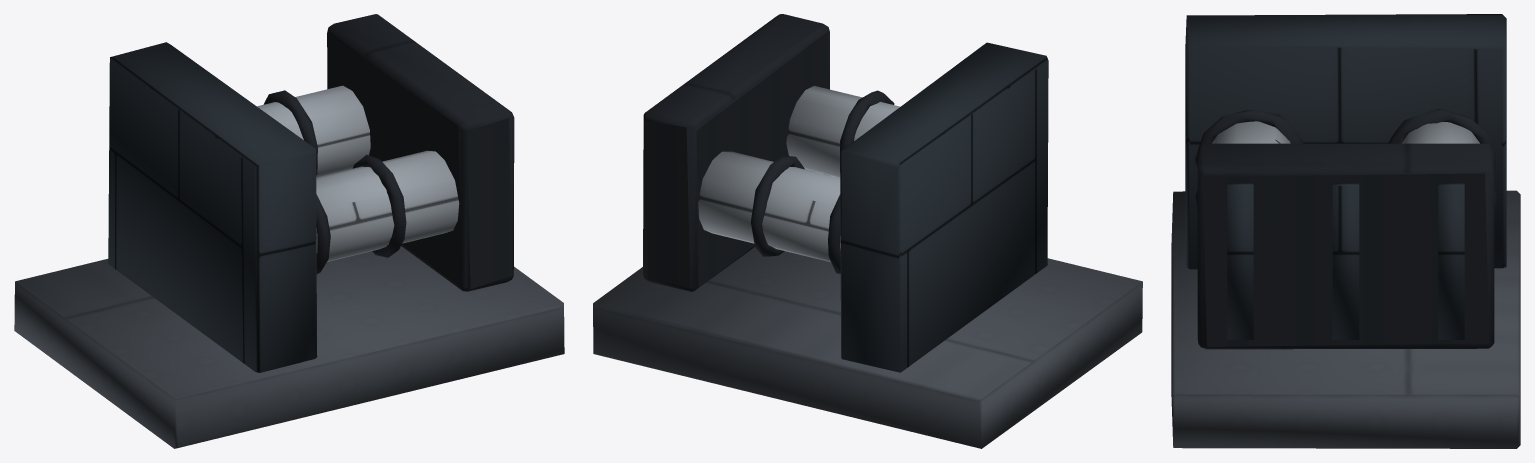
The model's file is ops_ejector_stop_lod2.glb.
3 renders of one model, left to right at view 1: azimuth 30°, elevation 25°; view 2: azimuth 150°, elevation 25°; view 3: azimuth 270°, elevation 25°, orthographic. The views are drawn at different scales.
Parts seen in each view (by area): view 1: LOD2_Mechanical, LOD2_Armor, LOD2_MOTION_COMPRESSION_MechanicalDark, LOD2_BrushedMetal, LOD2_MechanicalDark; view 2: LOD2_Mechanical, LOD2_Armor, LOD2_MOTION_COMPRESSION_MechanicalDark, LOD2_BrushedMetal, LOD2_MechanicalDark; view 3: LOD2_MOTION_COMPRESSION_MechanicalDark, LOD2_Mechanical, LOD2_Armor, LOD2_MOTION_COMPRESSION_Armor, LOD2_MechanicalDark, LOD2_BrushedMetal.
Part boxes in pixels (bbox=[...]): LOD2_Mechanical: bbox=[14, 246, 564, 448]; LOD2_Armor: bbox=[108, 42, 317, 372]; LOD2_MOTION_COMPRESSION_MechanicalDark: bbox=[327, 14, 514, 291]; LOD2_BrushedMetal: bbox=[257, 85, 459, 261]; LOD2_MechanicalDark: bbox=[263, 90, 406, 273]; LOD2_Mechanical: bbox=[593, 247, 1142, 448]; LOD2_Armor: bbox=[840, 42, 1048, 372]; LOD2_MOTION_COMPRESSION_MechanicalDark: bbox=[643, 14, 829, 291]; LOD2_BrushedMetal: bbox=[698, 85, 900, 262]; LOD2_MechanicalDark: bbox=[751, 90, 894, 273]; LOD2_MOTION_COMPRESSION_MechanicalDark: bbox=[1197, 143, 1494, 349]; LOD2_Mechanical: bbox=[1171, 190, 1520, 448]; LOD2_Armor: bbox=[1185, 14, 1506, 269]; LOD2_MOTION_COMPRESSION_Armor: bbox=[1227, 183, 1464, 339]; LOD2_MechanicalDark: bbox=[1194, 108, 1496, 214]; LOD2_BrushedMetal: bbox=[1212, 121, 1479, 143].
Size of the model in its own units: 1.78 by 1.13 by 1.29.
Materials: 4 (4 with a texture image).
